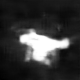plane: (18, 28, 74, 67)
